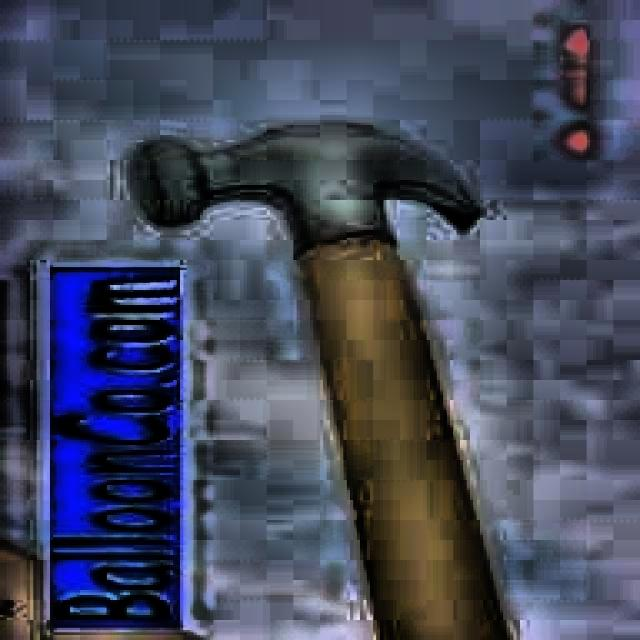hammer: (126, 116, 486, 640)
